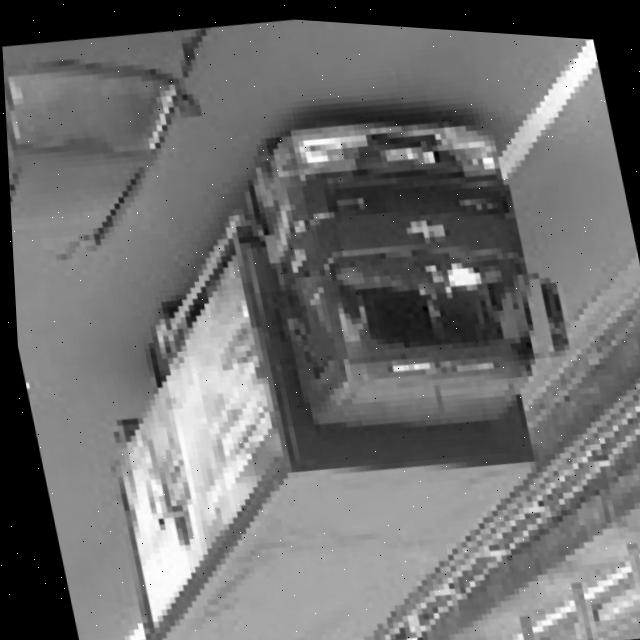truck: (213, 54, 600, 467)
